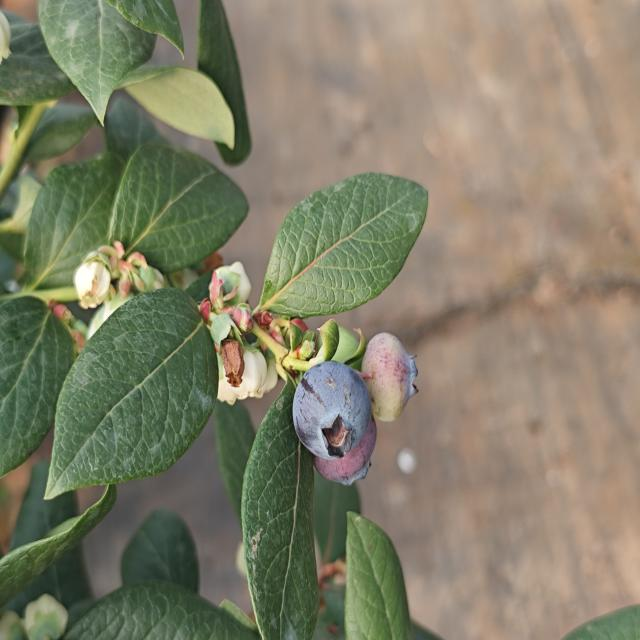ripe: (290, 358, 378, 487)
